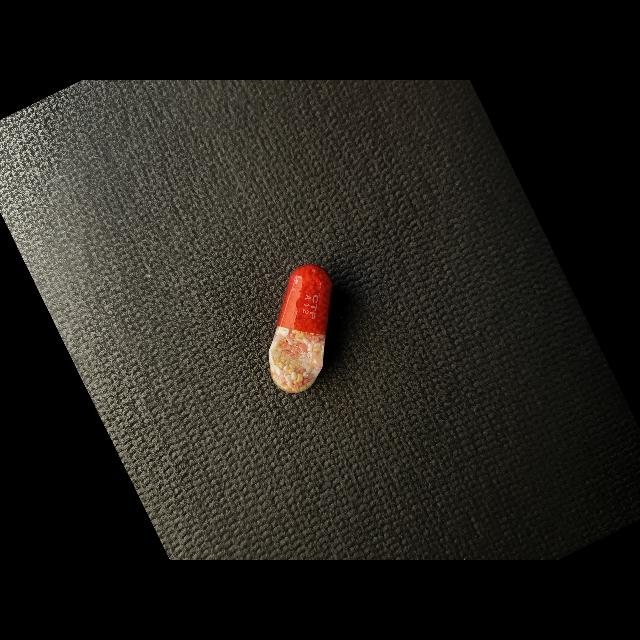Defective Capsule: (268, 265, 332, 393)
